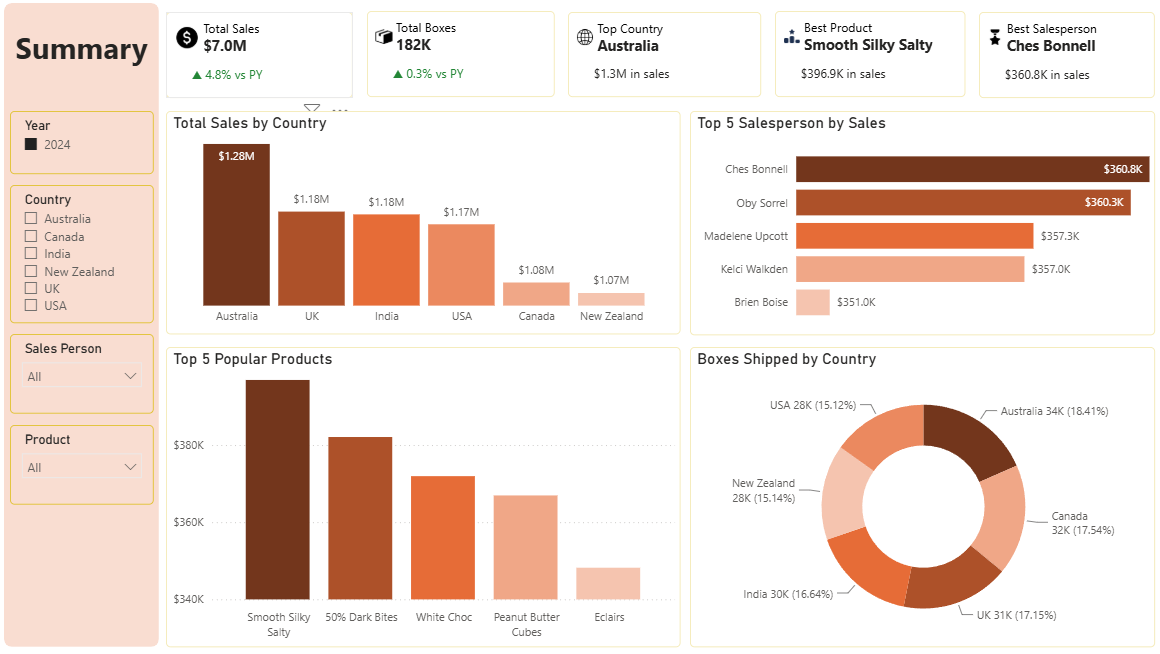

What the dashboard file says about the page in this screenshot:
{"tool":"powerbi","page":{"name":"Executive Summary","canvas":[1280,720],"ordinal":0},"visuals":[{"type":"clusteredColumnChart","title":"Top 5 Popular Products","fields":{"Category":["Chocolate Sales Cleaned.product"],"Y":["Sum(Chocolate Sales Cleaned.amount)"]},"box":[187.8,384.4,562.5,327.6],"z":0},{"type":"donutChart","title":"Boxes Shipped by Country","fields":{"Category":["Chocolate Sales Cleaned.country"],"Y":["Sum(Chocolate Sales Cleaned.boxes_shipped)"]},"box":[760.1,384.4,507.8,327.6],"z":1000},{"type":"cardVisual","fields":{"Data":["Measure.Total Sales"]},"box":[187.8,18.6,204.2,93.9],"z":2000},{"type":"cardVisual","fields":{"Data":["Measure.Total Boxes"]},"box":[407.1,17.5,205.3,93.9],"z":3000},{"type":"cardVisual","fields":{"Data":["Measure.Best Product"]},"box":[853.2,17.5,207.5,93.9],"z":4000},{"type":"cardVisual","fields":{"Data":["Measure.Top Salesperson"]},"box":[1075.8,18.6,192.2,93.9],"z":5000},{"type":"shape","box":[10.9,8.7,169.3,703.3],"z":6000},{"type":"cardVisual","fields":{"Data":["Measure.Top Country"]},"box":[627.4,18.6,210.8,92.8],"z":7000},{"type":"clusteredColumnChart","title":"Total Sales by Country","fields":{"Category":["Chocolate Sales Cleaned.country"],"Y":["Sum(Chocolate Sales Cleaned.amount)"]},"box":[187.8,126.7,562.5,243.5],"z":8000},{"type":"textbox","box":[18.6,29.5,169.3,69.9],"z":9000},{"type":"clusteredBarChart","title":"Top 5 Salesperson by Sales","fields":{"Category":["Chocolate Sales Cleaned.sales_person"],"Y":["Sum(Chocolate Sales Cleaned.amount)"]},"box":[760.1,126.7,507.8,244.6],"z":10000},{"type":"slicer","fields":{"Values":["Chocolate Sales Cleaned.country"]},"box":[17.5,207.5,157.3,150.7],"z":11000},{"type":"slicer","fields":{"Values":["Calendar.Year"]},"box":[17.5,126.7,157.3,68.8],"z":12000},{"type":"slicer","fields":{"Values":["Chocolate Sales Cleaned.sales_person"]},"box":[17.5,370.2,157.3,87.4],"z":13000},{"type":"slicer","fields":{"Values":["Chocolate Sales Cleaned.product"]},"box":[17.5,469.6,157.3,87.4],"z":14000}]}

Visuals, with their boxes in screenshot pixels (x1, y1, x2, y2), scaled from the page's 1280x720 canvas onto the 1160x654 screenshot:
"Top 5 Popular Products" clusteredColumnChart: [x1=170, y1=349, x2=680, y2=647]
"Boxes Shipped by Country" donutChart: [x1=689, y1=349, x2=1149, y2=647]
cardVisual - Measure.Total Sales: [x1=170, y1=17, x2=355, y2=102]
cardVisual - Measure.Total Boxes: [x1=369, y1=16, x2=555, y2=101]
cardVisual - Measure.Best Product: [x1=773, y1=16, x2=961, y2=101]
cardVisual - Measure.Top Salesperson: [x1=975, y1=17, x2=1149, y2=102]
shape: [x1=10, y1=8, x2=163, y2=647]
cardVisual - Measure.Top Country: [x1=569, y1=17, x2=760, y2=101]
"Total Sales by Country" clusteredColumnChart: [x1=170, y1=115, x2=680, y2=336]
textbox: [x1=17, y1=27, x2=170, y2=90]
"Top 5 Salesperson by Sales" clusteredBarChart: [x1=689, y1=115, x2=1149, y2=337]
slicer - Chocolate Sales Cleaned.country: [x1=16, y1=188, x2=158, y2=325]
slicer - Calendar.Year: [x1=16, y1=115, x2=158, y2=178]
slicer - Chocolate Sales Cleaned.sales_person: [x1=16, y1=336, x2=158, y2=416]
slicer - Chocolate Sales Cleaned.product: [x1=16, y1=427, x2=158, y2=506]
